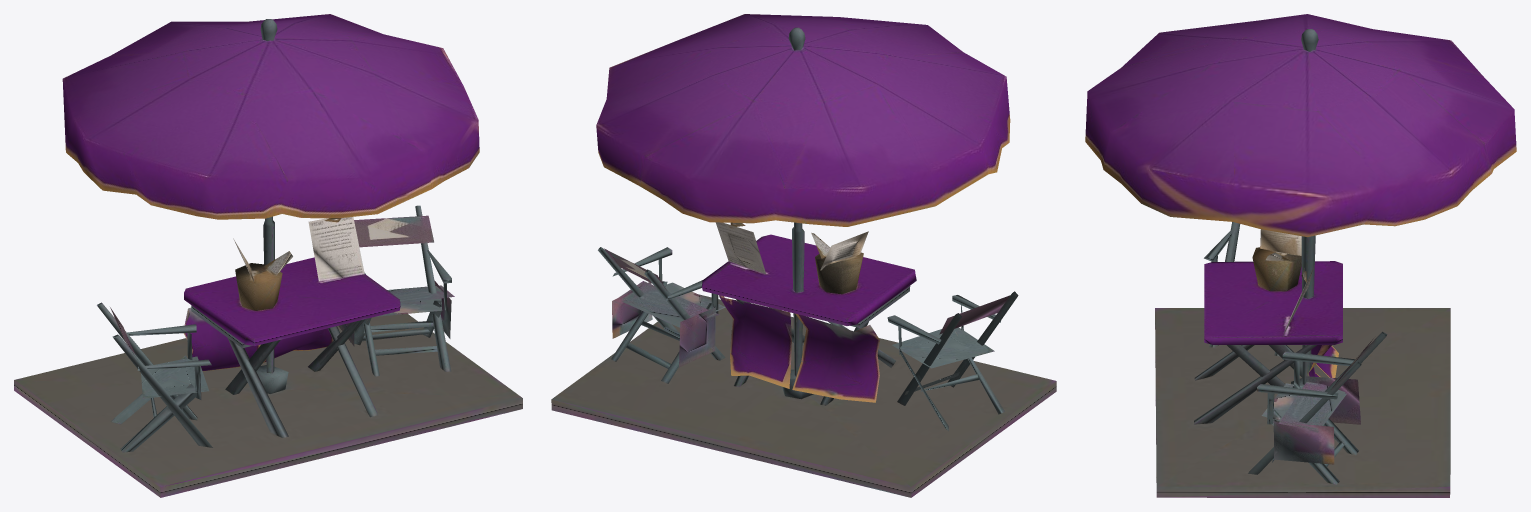
Rendered from test_booth.glb.
3 views of the same model, side by side, from view 1: azimuth 30°, elevation 25°; view 2: azimuth 150°, elevation 25°; view 3: azimuth 270°, elevation 25° (orthographic).
Bounding box in the file's own units: 2.6 × 2.53 × 2.59.
Materials: 1 (1 with a texture image).
